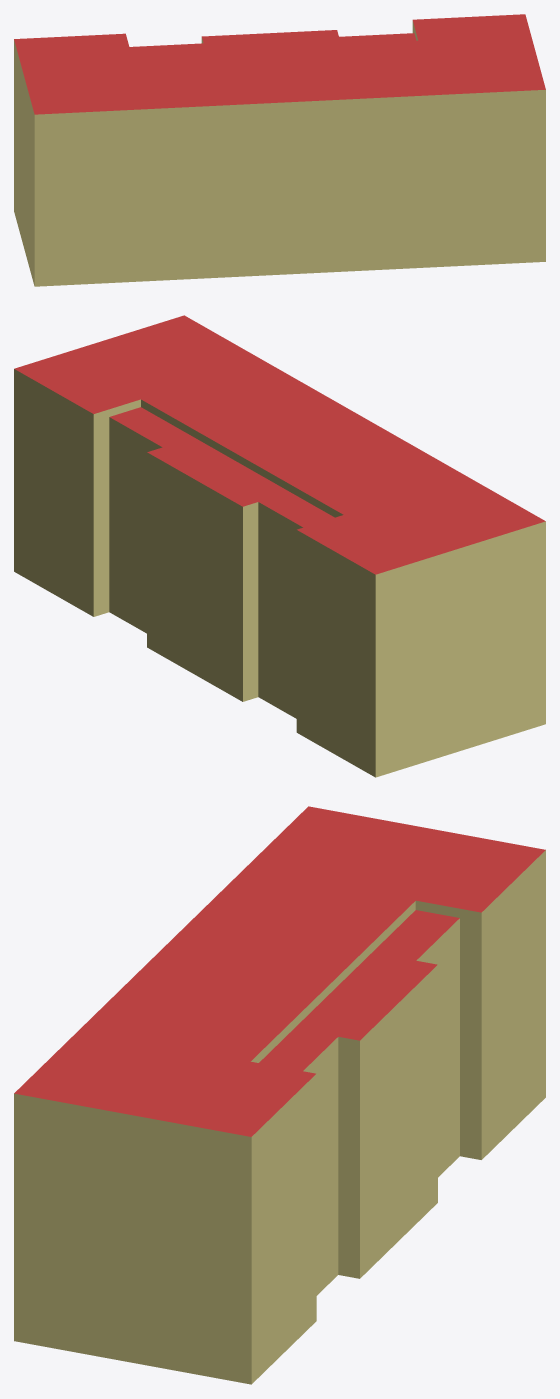
3 views of the same model, one above another, from view 1: azimuth 30°, elevation 25°; view 2: azimuth 150°, elevation 25°; view 3: azimuth 270°, elevation 25° (orthographic). The views are drawn at different scales.
Bounding box in the file's own units: 40.84 × 27.77 × 14.26.
